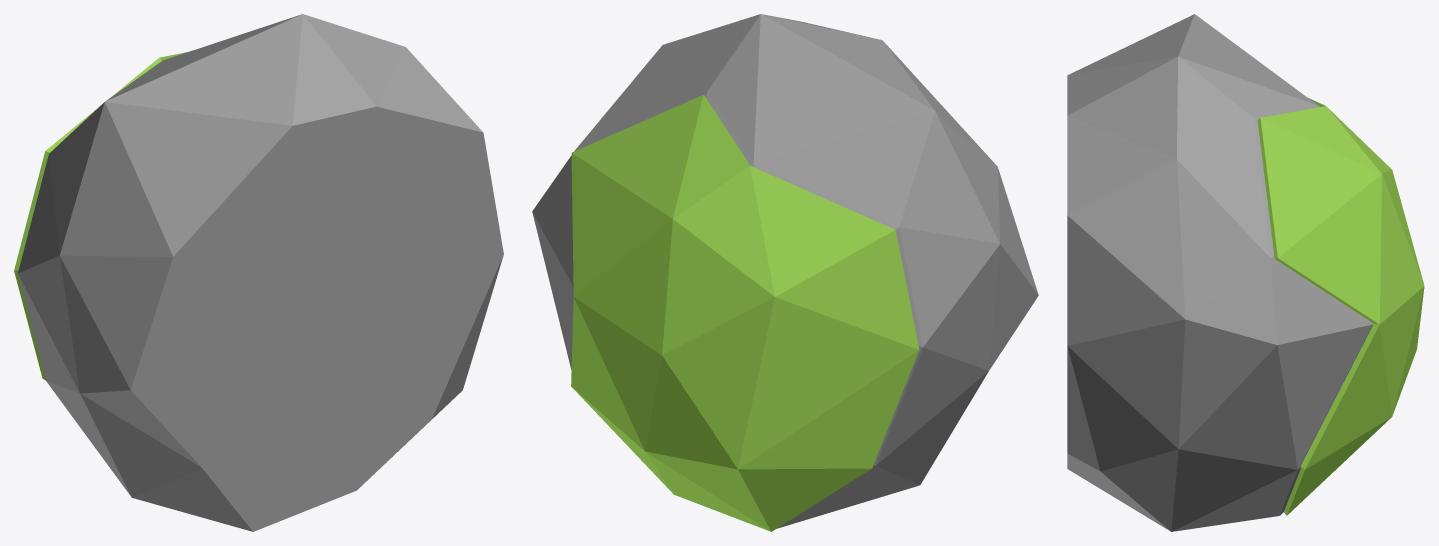
File: Rock_1_Mossy.fbx
The picture shows the model from 3 angles, left to right: view 1: azimuth 30°, elevation 25°; view 2: azimuth 150°, elevation 25°; view 3: azimuth 270°, elevation 25°; orthographic projection. The views are drawn at different scales.
Visible parts, largest first — view 1: Rock_1_Mossy; view 2: Rock_1_Mossy; view 3: Rock_1_Mossy.
Boxes of the visible parts, x1=… form: Rock_1_Mossy: x1=14, y1=14, x2=503, y2=531; Rock_1_Mossy: x1=532, y1=14, x2=1038, y2=531; Rock_1_Mossy: x1=1067, y1=14, x2=1424, y2=531.
Size of the model in its own units: 229 by 239 by 172.
